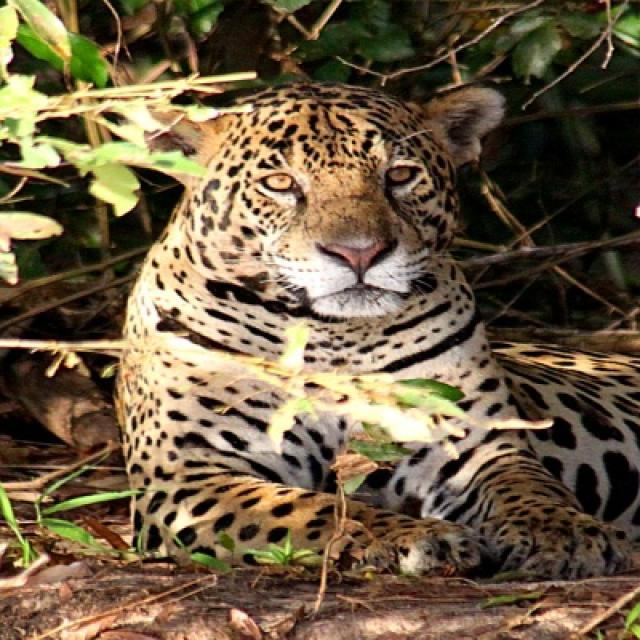Jaguar: (112, 83, 638, 592)
